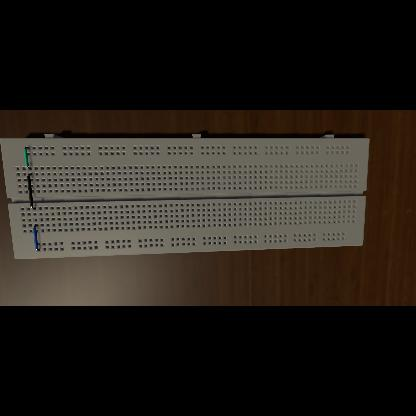breadboard: (0, 134, 369, 260)
wire: (26, 174, 36, 210), (24, 147, 32, 169), (34, 226, 40, 250)
